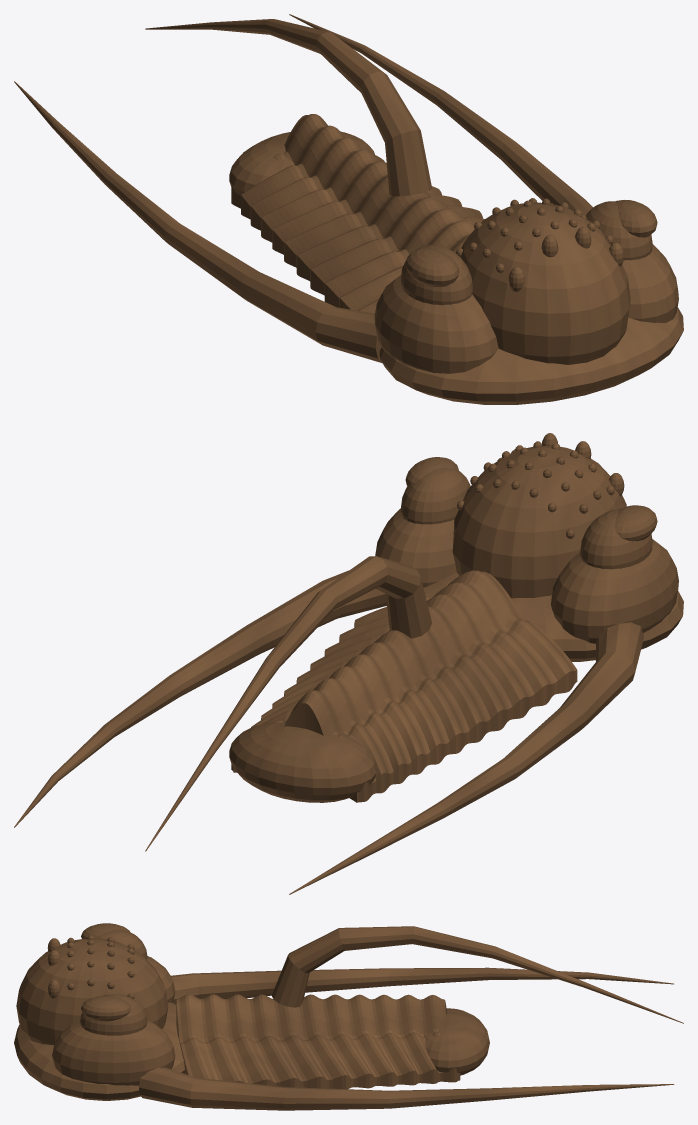
3 views of the same model, one above another, from view 1: azimuth 30°, elevation 25°; view 2: azimuth 150°, elevation 25°; view 3: azimuth 270°, elevation 25° (orthographic). The views are drawn at different scales.
Parts seen in each view (by area): view 1: Cyphaspis_eximia_continuous_living_shell_R1; view 2: Cyphaspis_eximia_continuous_living_shell_R1; view 3: Cyphaspis_eximia_continuous_living_shell_R1.
Boxes of the visible parts, left/top/right/bottom form: Cyphaspis_eximia_continuous_living_shell_R1: left=14, top=14, right=683, bottom=404; Cyphaspis_eximia_continuous_living_shell_R1: left=14, top=433, right=683, bottom=894; Cyphaspis_eximia_continuous_living_shell_R1: left=14, top=923, right=683, bottom=1110.
Size of the model in its own units: 0.4595 by 0.2368 by 1.
Materials: 1 (1 with a texture image).
